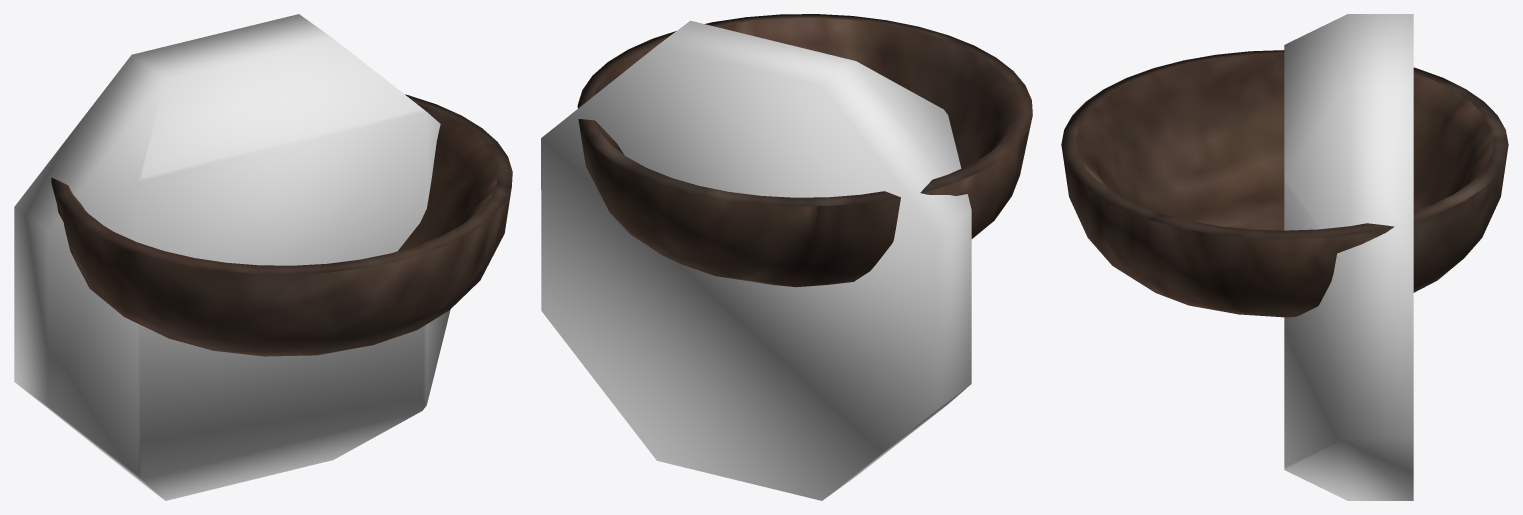
Rendered from SM_Dish.fbx.
The picture shows the model from 3 angles, left to right: view 1: azimuth 30°, elevation 25°; view 2: azimuth 150°, elevation 25°; view 3: azimuth 270°, elevation 25°; orthographic projection. The views are drawn at different scales.
Parts seen in each view (by area): view 1: SM_Dish_ConvexHulls, SM_Dish; view 2: SM_Dish_ConvexHulls, SM_Dish; view 3: SM_Dish, SM_Dish_ConvexHulls.
Part boxes in pixels (left/top/right/bottom): SM_Dish_ConvexHulls: left=14, top=14, right=450, bottom=500; SM_Dish: left=51, top=94, right=512, bottom=356; SM_Dish_ConvexHulls: left=541, top=20, right=971, bottom=500; SM_Dish: left=577, top=14, right=1032, bottom=287; SM_Dish: left=1061, top=50, right=1508, bottom=317; SM_Dish_ConvexHulls: left=1284, top=14, right=1413, bottom=500.
Bounding box in the file's own units: 0.3388 × 0.3388 × 0.3368.
